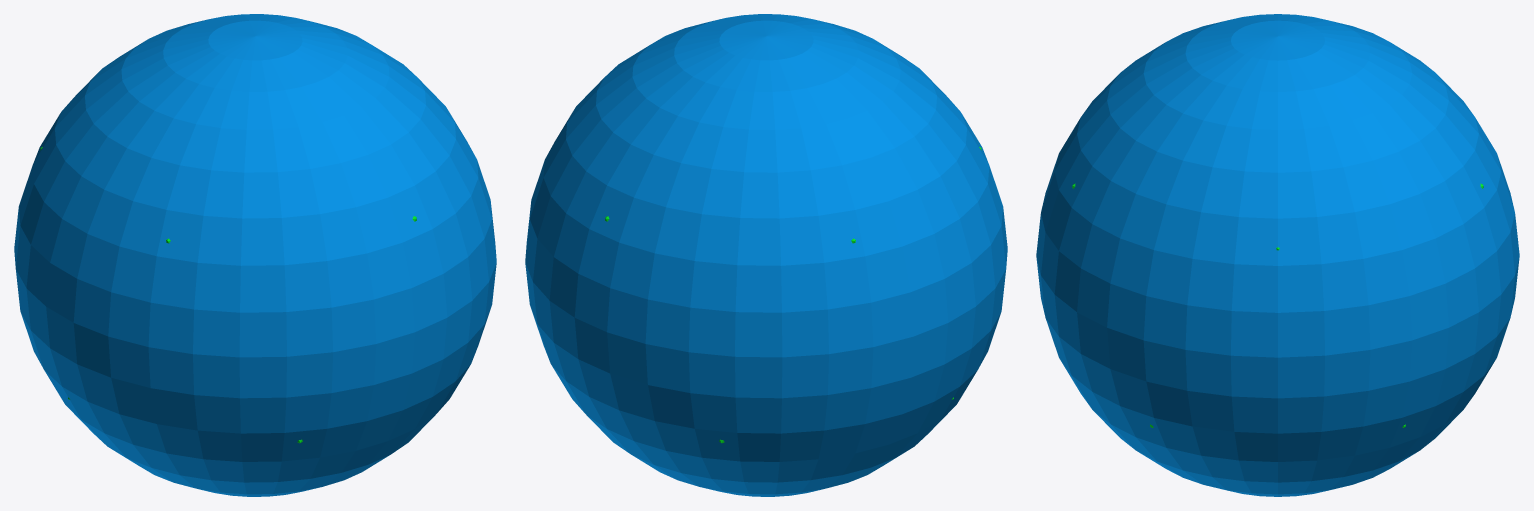
File: wire_test_mesh.glb
3 renders of one model, left to right at view 1: azimuth 30°, elevation 25°; view 2: azimuth 150°, elevation 25°; view 3: azimuth 270°, elevation 25°, orthographic.
Visible parts, largest first — view 1: Sphere; view 2: Sphere; view 3: Sphere.
Boxes of the visible parts, bbox=[...] form: Sphere: bbox=[14, 14, 496, 496]; Sphere: bbox=[525, 14, 1007, 496]; Sphere: bbox=[1036, 14, 1519, 496].
Size of the model in its own units: 2 by 2 by 2.
